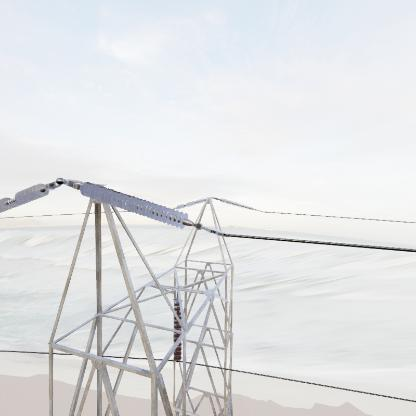insulator: (79, 178, 197, 231)
